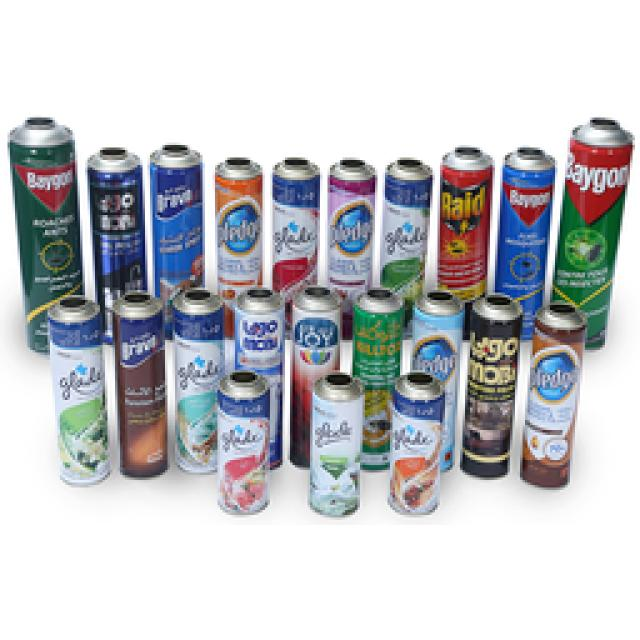zat_kimia: (548, 124, 629, 344), (8, 123, 84, 352), (519, 305, 588, 486), (87, 150, 147, 342), (47, 298, 108, 484), (230, 287, 286, 464), (270, 158, 322, 337), (380, 157, 432, 335)
